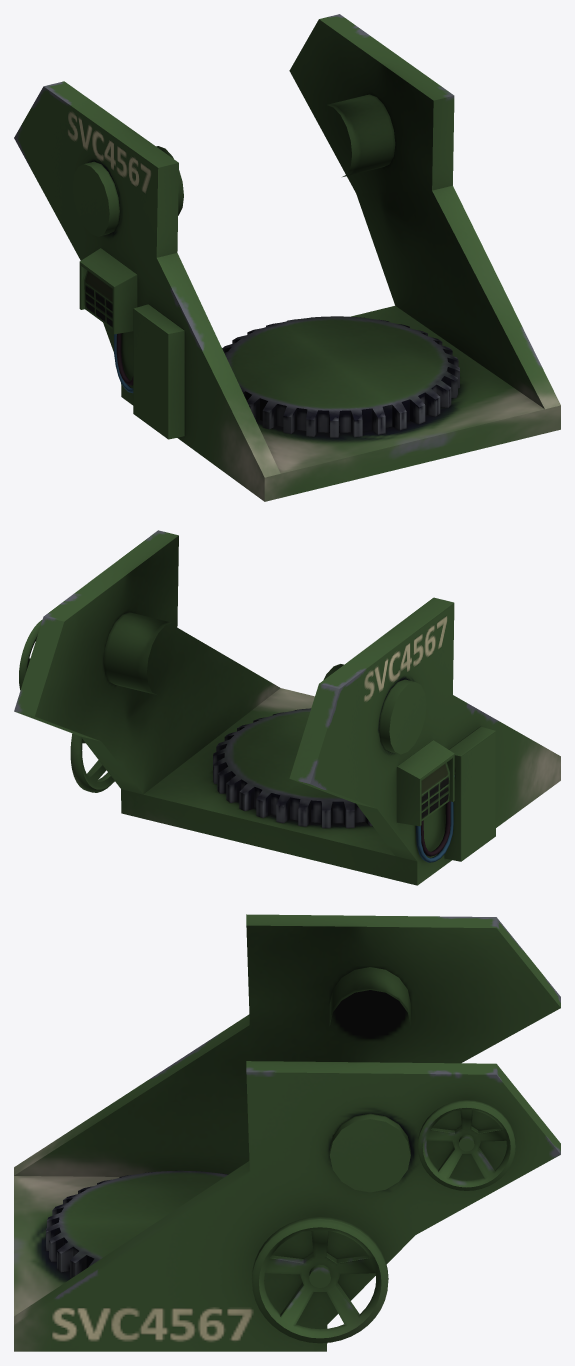
Rendered from cannon_fork.gltf.
3 renders of one model, top to bottom at view 1: azimuth 30°, elevation 25°; view 2: azimuth 150°, elevation 25°; view 3: azimuth 270°, elevation 25°, orthographic. The views are drawn at different scales.
Parts seen in each view (by area): view 1: fork_geo; view 2: fork_geo; view 3: fork_geo.
Part boxes in pixels (<box>): fork_geo: <box>14,14,560,501</box>; fork_geo: <box>14,530,560,885</box>; fork_geo: <box>14,914,560,1351</box>.
Bounding box in the file's own units: 1.15 × 0.8219 × 1.46.
Materials: 1 (1 with a texture image).
